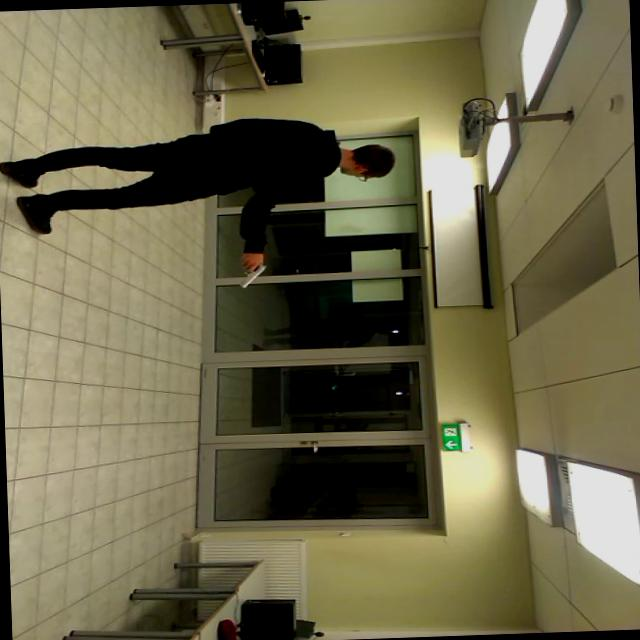handgun: (224, 262, 275, 294)
